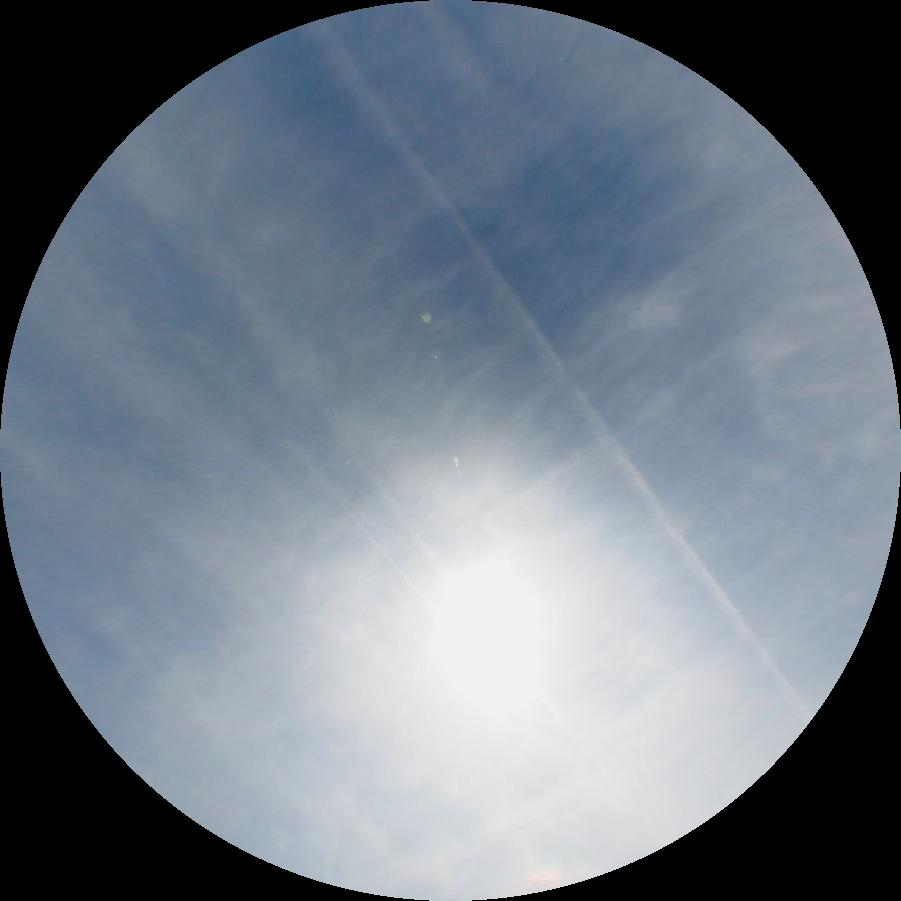contrail old: (304, 11, 814, 730)
contrail young: (320, 479, 436, 613)
sun: (427, 555, 545, 713)
